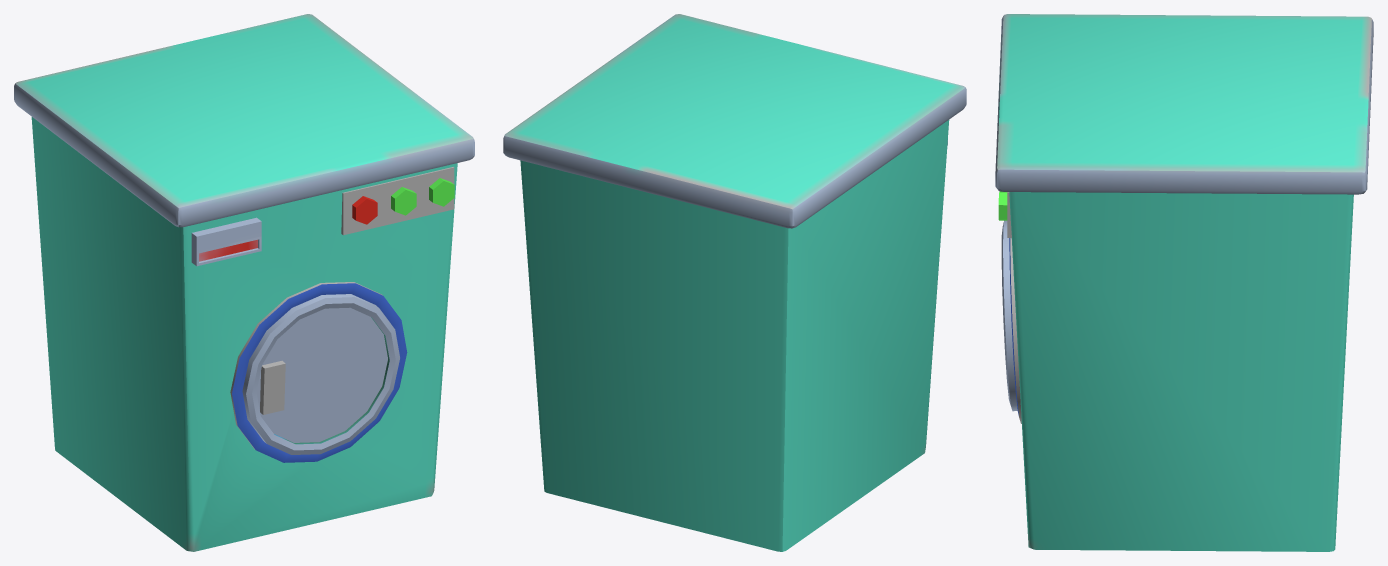
Rendered from washing_machine_01.fbx.
3 renders of one model, left to right at view 1: azimuth 30°, elevation 25°; view 2: azimuth 150°, elevation 25°; view 3: azimuth 270°, elevation 25°, orthographic. The views are drawn at different scales.
Parts seen in each view (by area): view 1: washing_machine_01, washing_machine_lid_01; view 2: washing_machine_01; view 3: washing_machine_01, washing_machine_lid_01.
Boxes of the visible parts, box(x1,y1,x2,y2) form: washing_machine_01: box(14, 14, 474, 551); washing_machine_lid_01: box(242, 294, 399, 454); washing_machine_01: box(503, 14, 966, 551); washing_machine_01: box(995, 14, 1373, 551); washing_machine_lid_01: box(1001, 220, 1017, 411).
Size of the model in its own units: 394 by 454 by 394.
